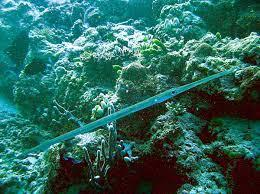Fistularia commersonii: (14, 73, 235, 135)
